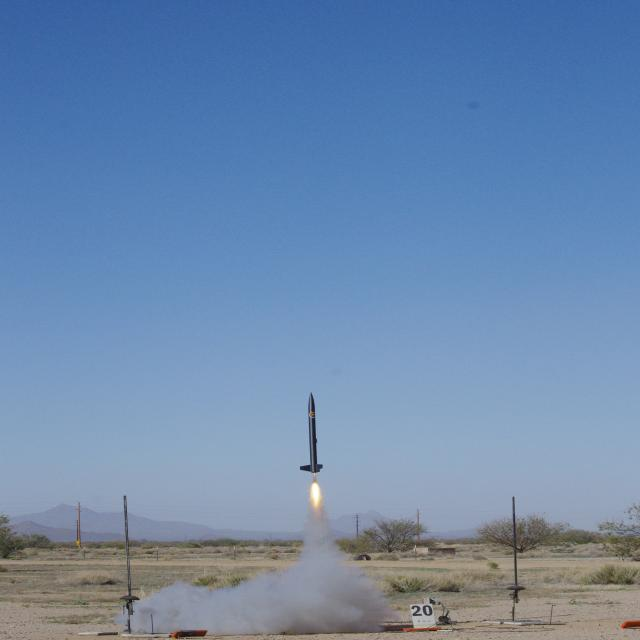Rocket: (299, 392, 324, 474)
